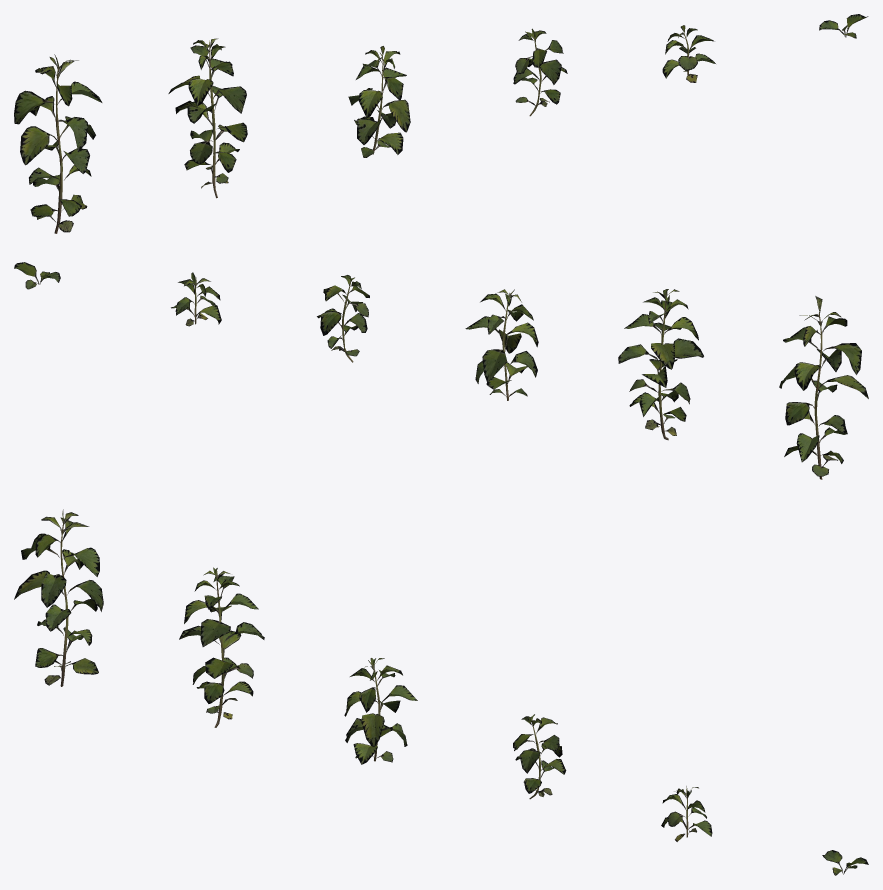
Rendered from nettle_plant.glb.
3 renders of one model, top to bottom at view 1: azimuth 30°, elevation 25°; view 2: azimuth 150°, elevation 25°; view 3: azimuth 330°, elevation 25°, orthographic.
Visible parts, largest first — view 1: nettle_plant_tall_a_LOD0, nettle_plant_tall_b_LOD0, nettle_plant_medium_a_LOD0, nettle_plant_medium_b_LOD0, nettle_plant_small_a_LOD0; view 2: nettle_plant_tall_a_LOD0, nettle_plant_tall_b_LOD0, nettle_plant_medium_a_LOD0, nettle_plant_medium_b_LOD0, nettle_plant_small_a_LOD0, nettle_plant_small_b_LOD0; view 3: nettle_plant_tall_a_LOD0, nettle_plant_tall_b_LOD0, nettle_plant_medium_a_LOD0, nettle_plant_medium_b_LOD0, nettle_plant_small_a_LOD0.
Part boxes in pixels (left/top/right/bottom): nettle_plant_tall_a_LOD0: left=14, top=54, right=102, bottom=233; nettle_plant_tall_b_LOD0: left=168, top=38, right=247, bottom=198; nettle_plant_medium_a_LOD0: left=348, top=46, right=410, bottom=157; nettle_plant_medium_b_LOD0: left=513, top=28, right=567, bottom=116; nettle_plant_small_a_LOD0: left=662, top=25, right=715, bottom=82; nettle_plant_tall_a_LOD0: left=779, top=296, right=868, bottom=479; nettle_plant_tall_b_LOD0: left=618, top=289, right=703, bottom=440; nettle_plant_medium_a_LOD0: left=465, top=289, right=538, bottom=400; nettle_plant_medium_b_LOD0: left=317, top=275, right=369, bottom=362; nettle_plant_small_a_LOD0: left=171, top=272, right=221, bottom=326; nettle_plant_small_b_LOD0: left=14, top=262, right=60, bottom=289; nettle_plant_tall_a_LOD0: left=14, top=509, right=103, bottom=686; nettle_plant_tall_b_LOD0: left=179, top=567, right=264, bottom=727; nettle_plant_medium_a_LOD0: left=344, top=658, right=417, bottom=764; nettle_plant_medium_b_LOD0: left=513, top=714, right=566, bottom=799; nettle_plant_small_a_LOD0: left=661, top=786, right=712, bottom=841.
Size of the model in its own units: 1.08 by 0.2181 by 0.0947.
1 material, 1 textured.
